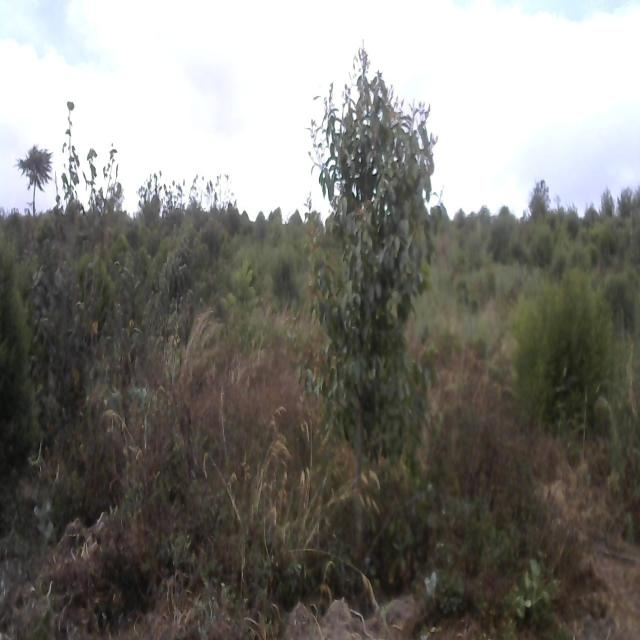Juniperus procesera: (529, 267, 625, 428), (16, 130, 55, 211)
Olea welwitchii: (301, 36, 445, 461)
